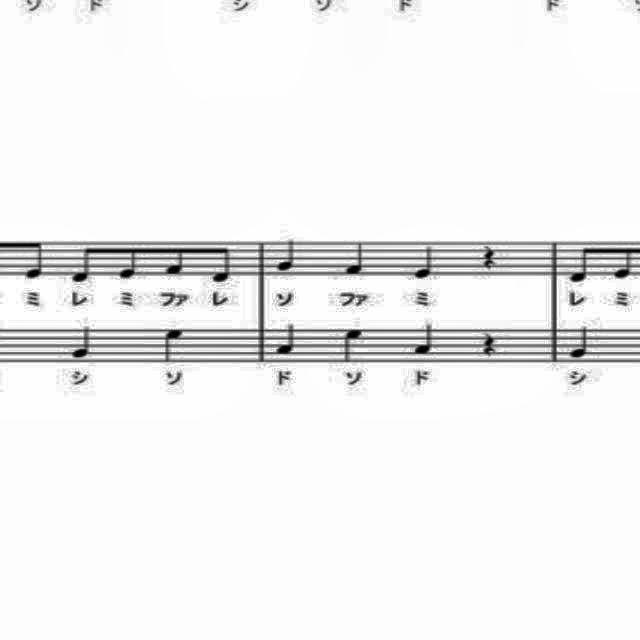Eighth-note: (113, 237, 147, 283), (20, 231, 48, 281), (68, 237, 95, 287), (566, 244, 596, 288), (609, 240, 637, 282), (210, 240, 234, 288), (162, 240, 190, 280)
Quarter-note: (338, 326, 372, 366), (69, 323, 99, 365), (412, 241, 441, 283), (274, 237, 302, 275), (342, 241, 370, 279), (272, 322, 300, 360), (412, 318, 438, 358), (568, 324, 594, 360), (162, 325, 186, 363)
Quarter-rest: (472, 242, 500, 274), (479, 328, 501, 362)
